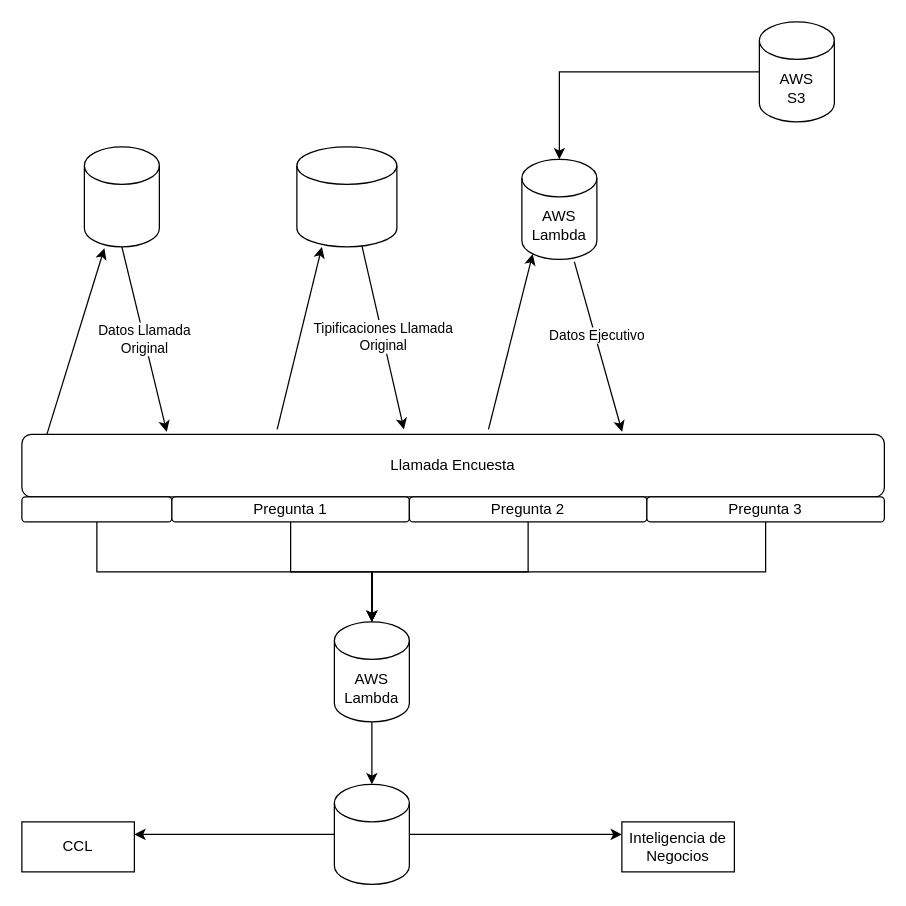
Some shapes in this 906 by 906 pixel diagram are drawn without their labels. The centre of each missing label's shape, as x and y in pixels:
API Genesys Cloud: the point at 121,196
API SalesForce: the point at 346,196
AWS Dynamo: the point at 371,833
Datos: the point at 96,509
